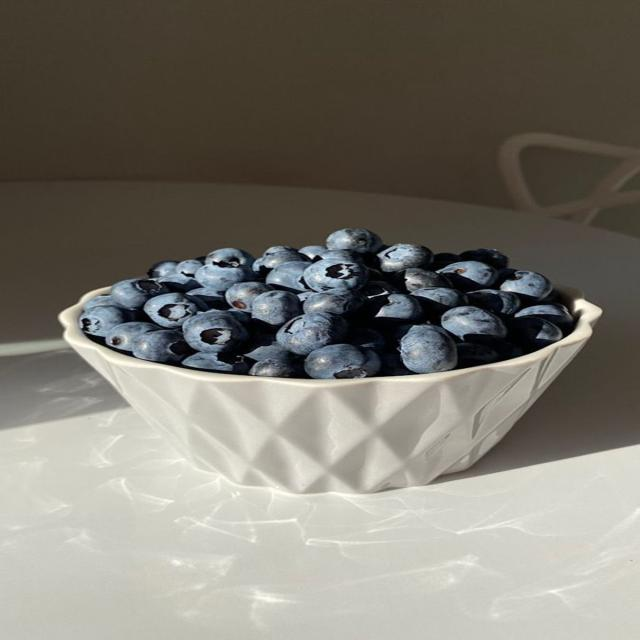blueberry: (276, 313, 347, 355), (400, 325, 457, 373), (183, 311, 248, 352), (305, 344, 381, 379), (441, 306, 507, 342), (144, 293, 206, 328), (305, 259, 368, 291), (132, 330, 192, 363), (510, 316, 563, 350), (110, 279, 169, 309), (438, 261, 496, 291), (252, 291, 301, 326), (79, 306, 133, 337), (500, 271, 552, 303), (516, 304, 573, 333), (412, 288, 467, 317), (378, 244, 433, 272), (182, 352, 251, 374), (196, 264, 252, 291), (106, 322, 158, 351), (225, 282, 273, 313), (304, 290, 366, 314), (253, 250, 310, 276), (467, 290, 520, 315), (266, 262, 308, 293), (397, 268, 451, 292), (375, 294, 421, 322), (327, 229, 382, 252), (244, 340, 299, 361), (457, 342, 500, 368), (460, 249, 509, 269), (204, 248, 255, 267), (249, 359, 301, 377), (347, 328, 385, 352), (158, 272, 201, 293), (382, 323, 415, 349), (189, 287, 227, 309), (379, 350, 412, 375), (361, 280, 400, 301), (492, 341, 524, 360), (147, 261, 178, 278), (431, 253, 462, 270), (223, 308, 252, 326), (320, 249, 363, 261), (84, 295, 118, 310), (407, 322, 449, 334), (176, 259, 202, 278), (493, 268, 516, 287), (367, 266, 393, 282), (538, 289, 565, 304), (299, 246, 327, 260), (263, 246, 297, 256), (297, 291, 315, 302)
